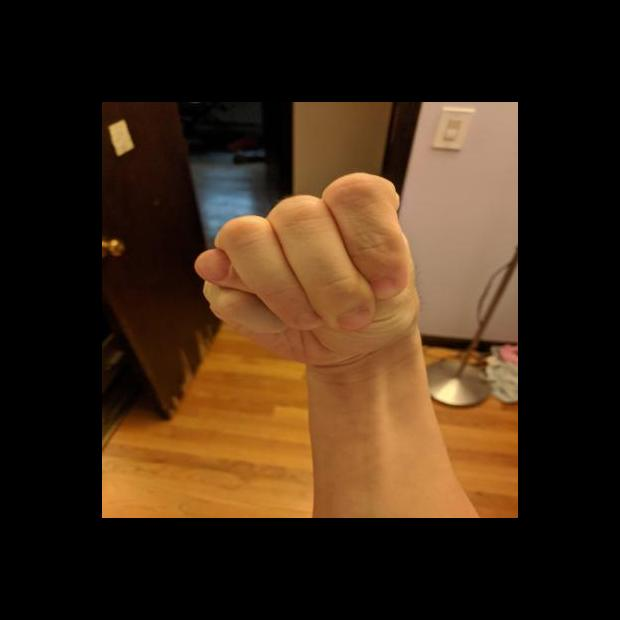L: (187, 168, 432, 369)
